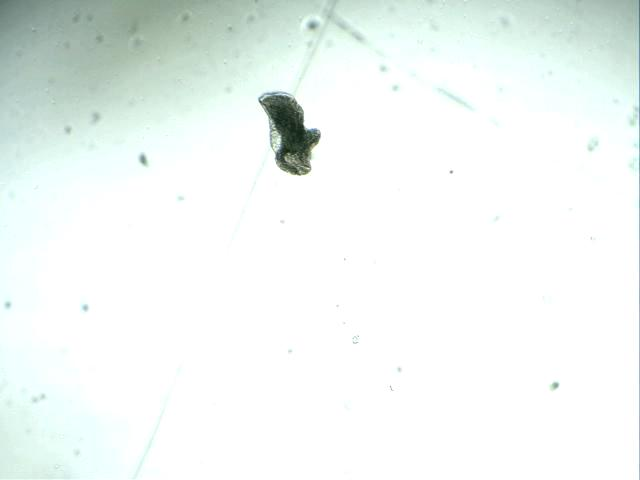Placozoan: (257, 92, 320, 175)
